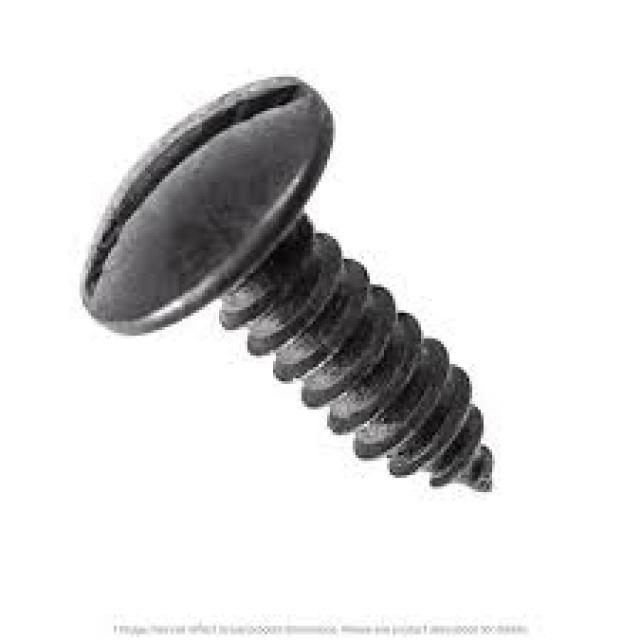Dry Waste: (28, 64, 597, 444)
